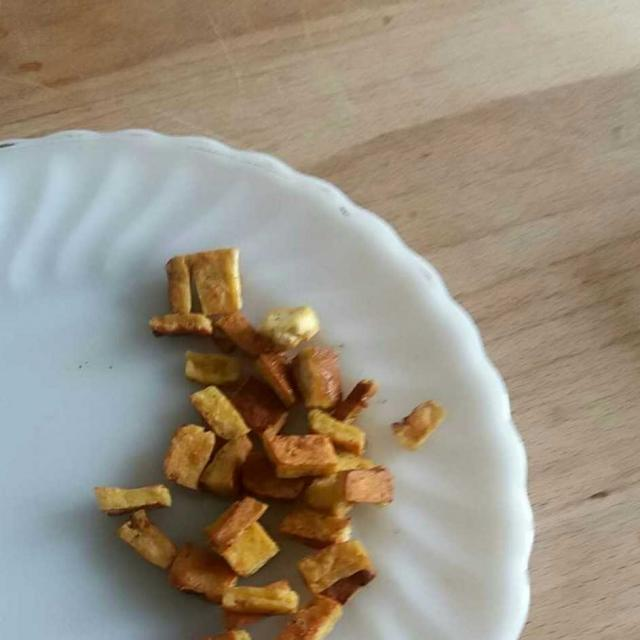tofu: (96, 245, 446, 634)
